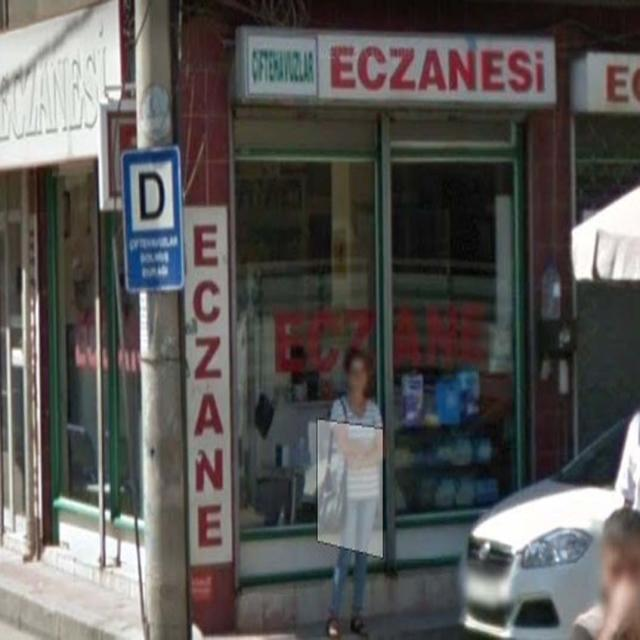durak: (121, 147, 182, 236)
